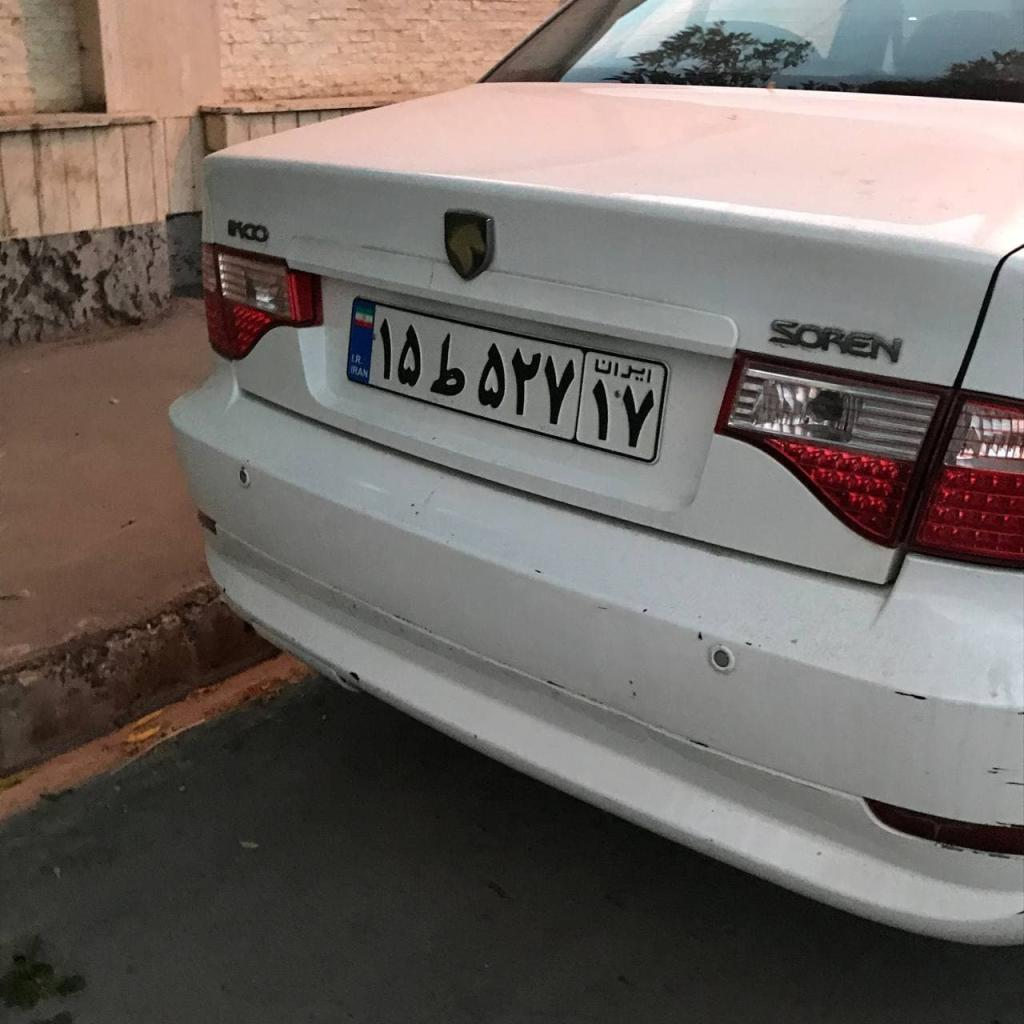Plates: (342, 300, 667, 463)
